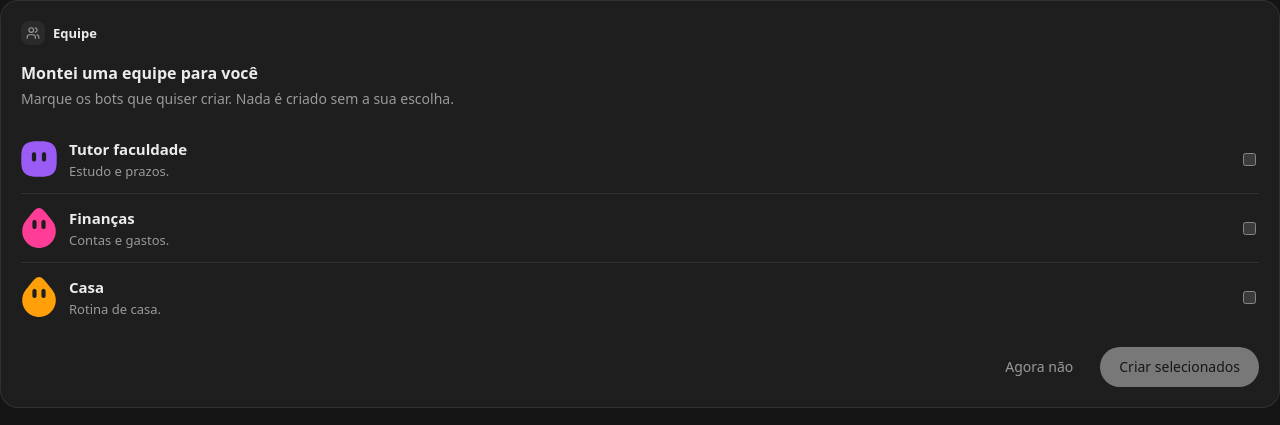
the team card › shows the server's refusal and lets the person try again
What coordinates should you click on to do the following:
click the checkbox named "Criar Casa"
I would click on:
 (1250, 297)
Its box is top-left (1243, 290), bottom-right (1256, 304).
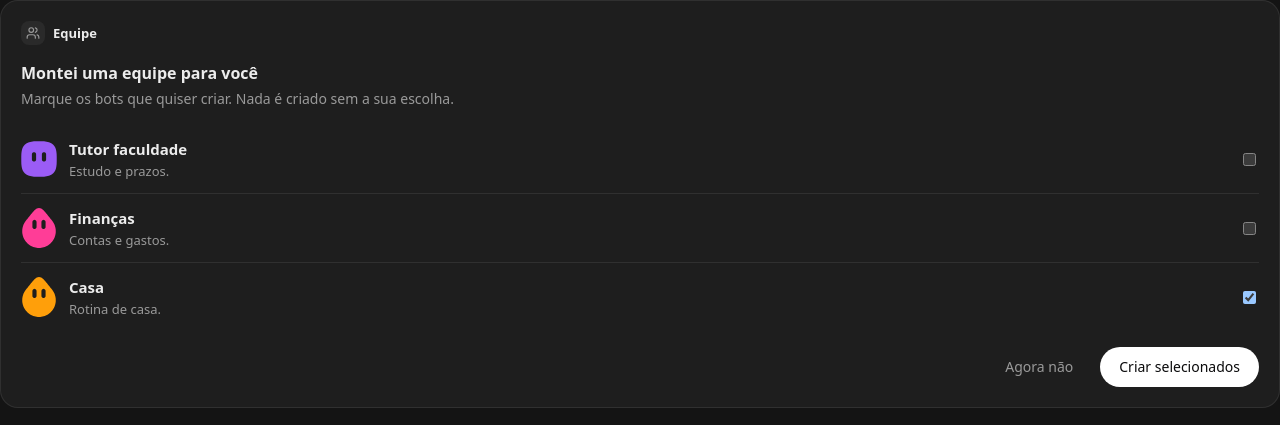
What coordinates should you click on to do the following:
click the button with test id "team-create"
I would click on:
 (1180, 367)
Its box is top-left (1100, 347), bottom-right (1259, 387).
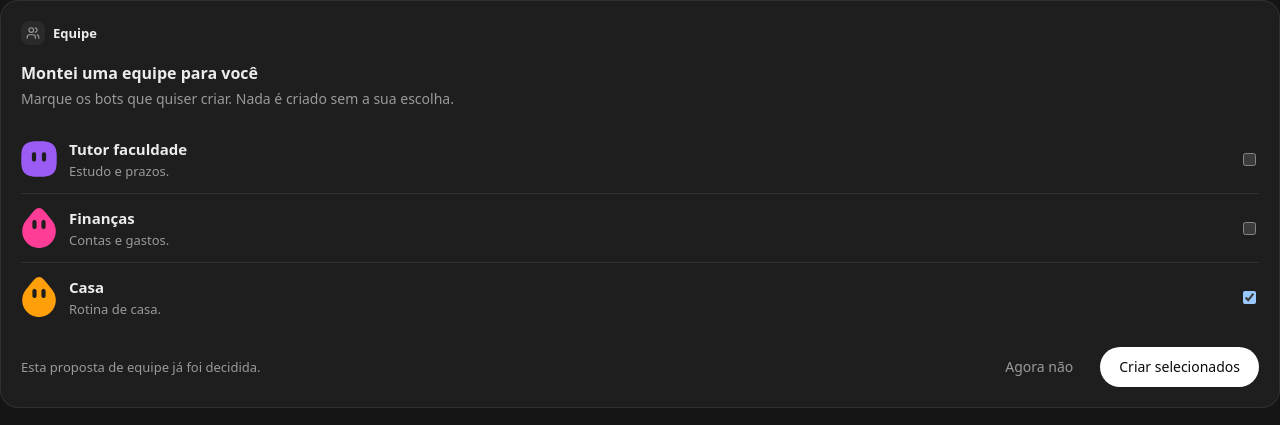
Now the button with test id "team-create" is enabled, box top-left (1100, 347), bottom-right (1259, 387)
Now the text "Esta proposta de equipe já foi decidida." is shown, box top-left (21, 358), bottom-right (260, 376)
